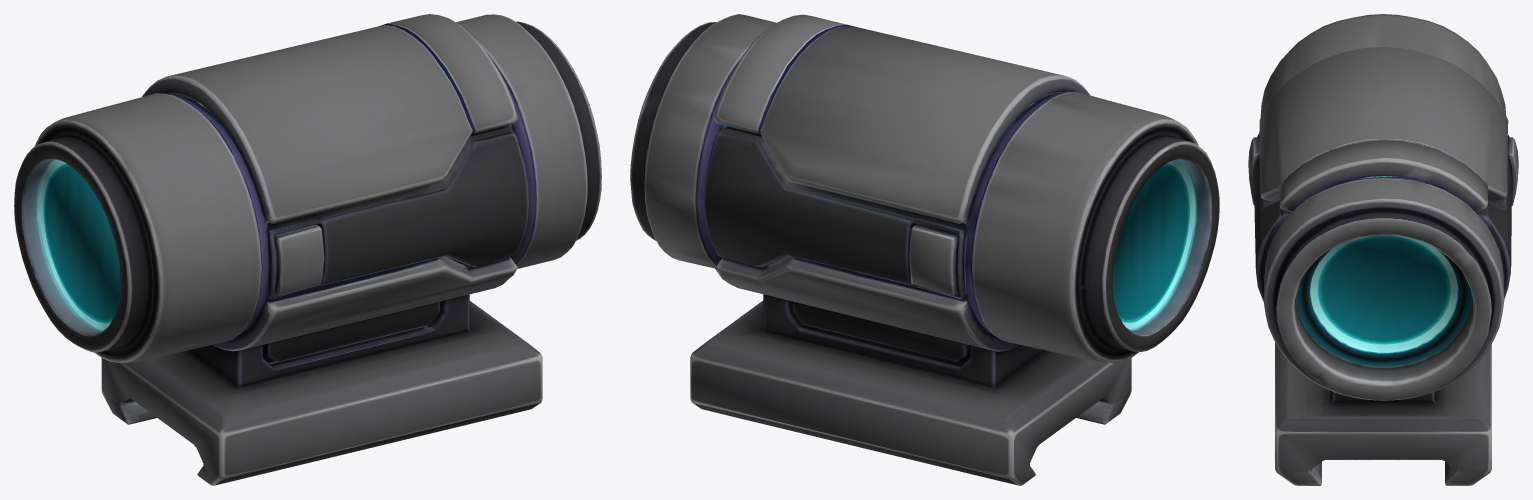
File: asset_pack_item_glb-vd730pkbrbwesez24haez5dfb18c0x55-0-ks75dye1rkxe9hs6b9b6d6gygx8c1w30.glb
3 renders of one model, left to right at view 1: azimuth 30°, elevation 25°; view 2: azimuth 150°, elevation 25°; view 3: azimuth 270°, elevation 25°, orthographic. The views are drawn at different scales.
Visible parts, largest first — view 1: Holo optic module; view 2: Holo optic module; view 3: Holo optic module.
Part boxes in pixels (x1=…): Holo optic module: x1=14, y1=14, x2=601, y2=485; Holo optic module: x1=630, y1=14, x2=1219, y2=485; Holo optic module: x1=1248, y1=14, x2=1518, y2=485.
Size of the model in its own units: 0.998 by 0.7168 by 0.5527.
1 material, 1 textured.
